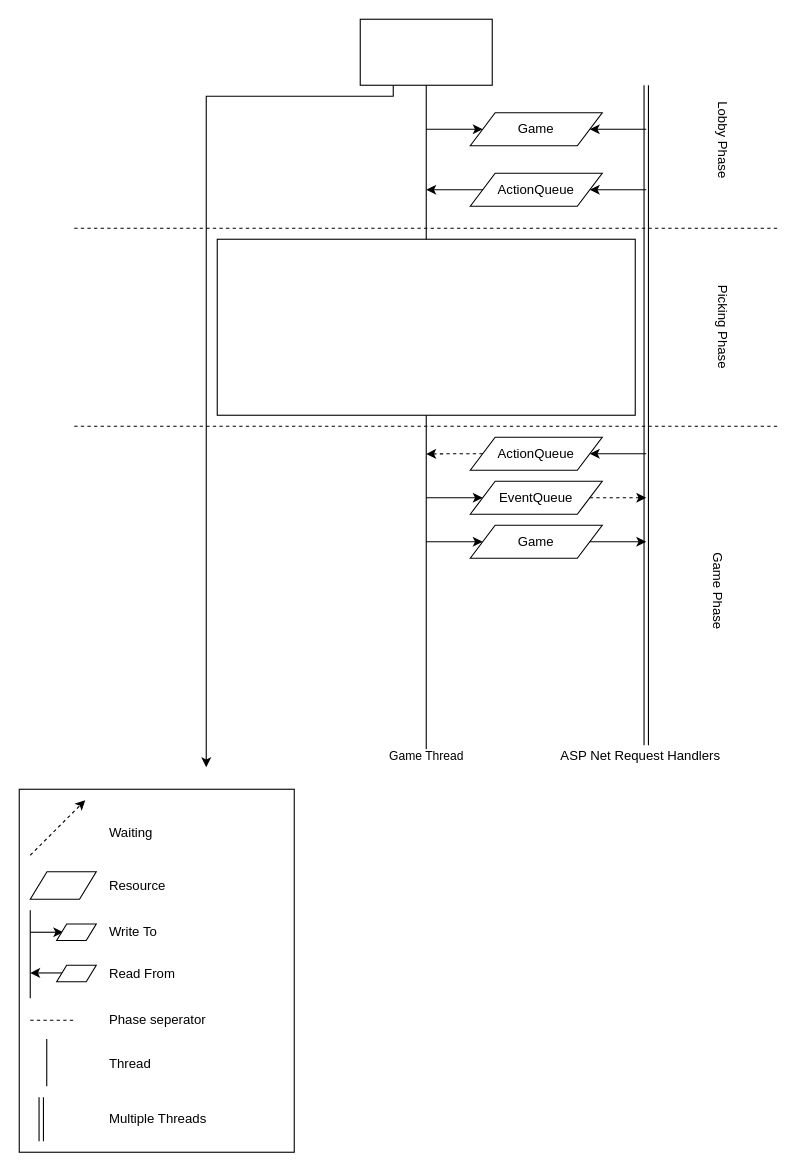
The diagram is 799 pixels wide and 1172 high, and some of its shapes have lost their labels. The centre of each missing label's shape, as x and y in pixels:
"At moment random" belongs at point 425,326.
"Game session" belongs at point 425,51.
